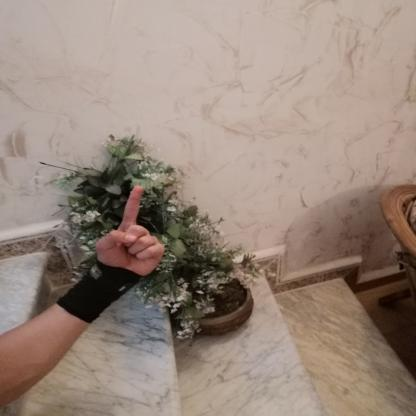BAA: (84, 176, 172, 283)
